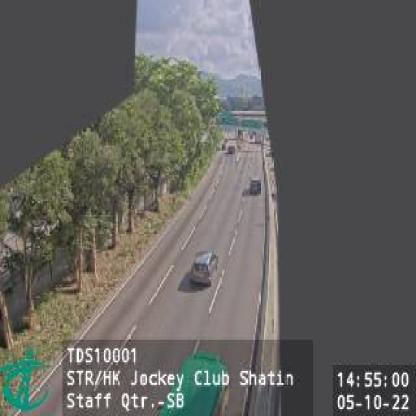Car: (190, 251, 216, 286), (246, 173, 260, 194)
